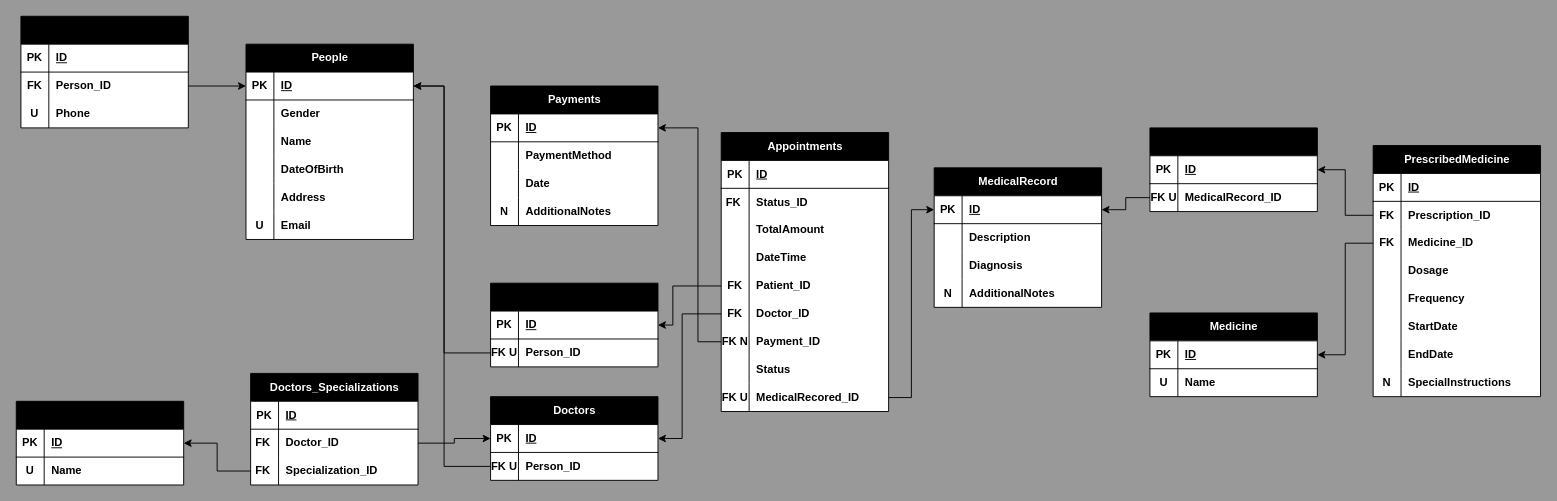
Image size: 1557x501. Some labels were removed from this diagram. Here are the shapes that lost their labels. From the top down, the box of each, then its label:
(20, 15, 188, 128): Phones
(1149, 127, 1317, 212): Prescription
(490, 282, 658, 367): Patients
(15, 400, 184, 485): Specializations
